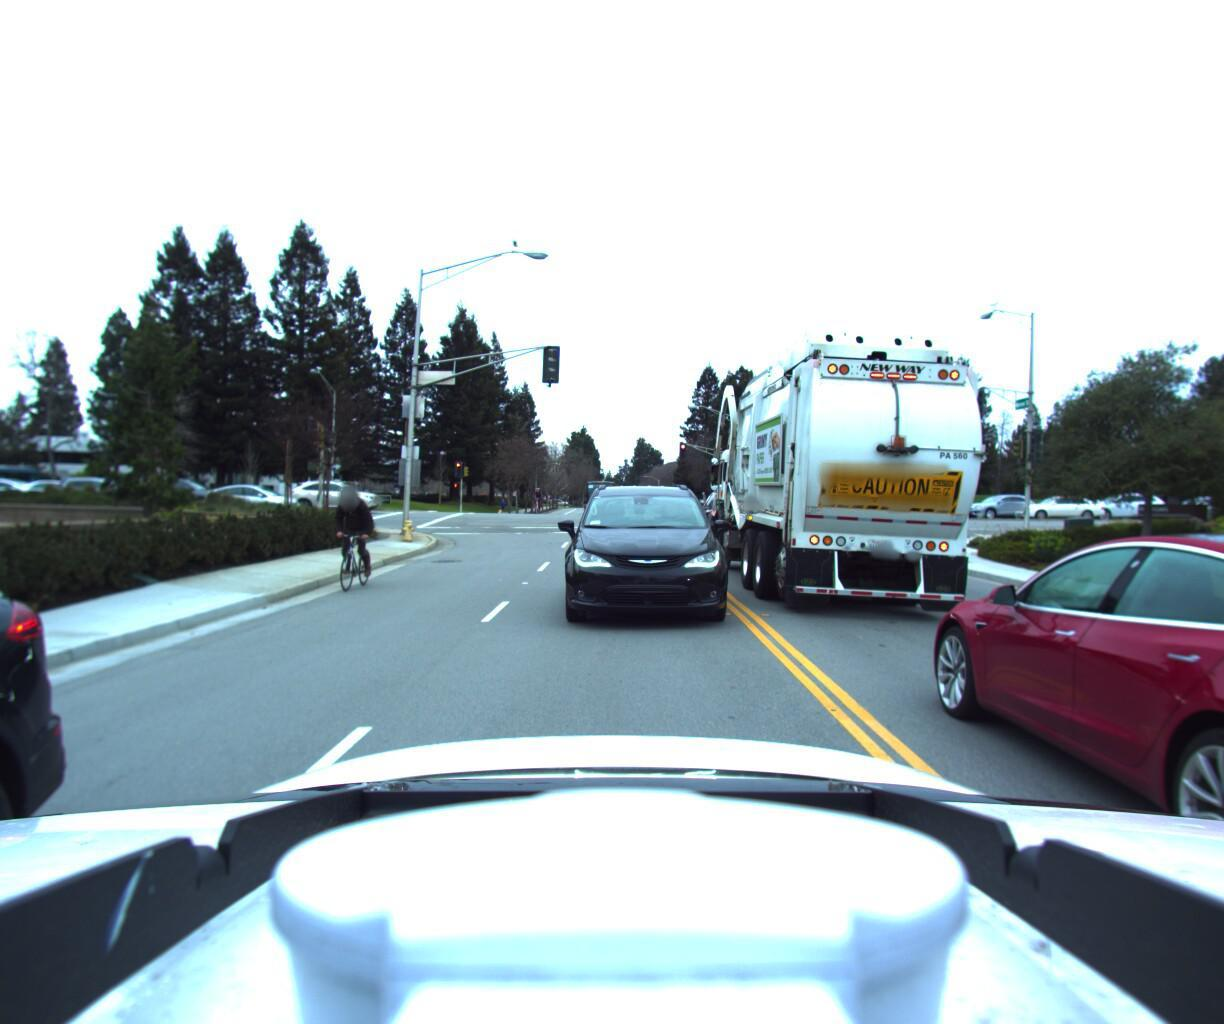bicycle: (308, 476, 391, 595), (527, 485, 545, 515)
bus: (578, 476, 614, 514)
car: (901, 518, 1224, 1024), (555, 470, 740, 643), (689, 486, 771, 551), (282, 478, 383, 515), (197, 484, 302, 518), (1070, 487, 1168, 518), (1006, 489, 1106, 517), (879, 490, 968, 518), (955, 489, 1037, 516), (0, 478, 67, 505)
truck: (702, 290, 1008, 629)
